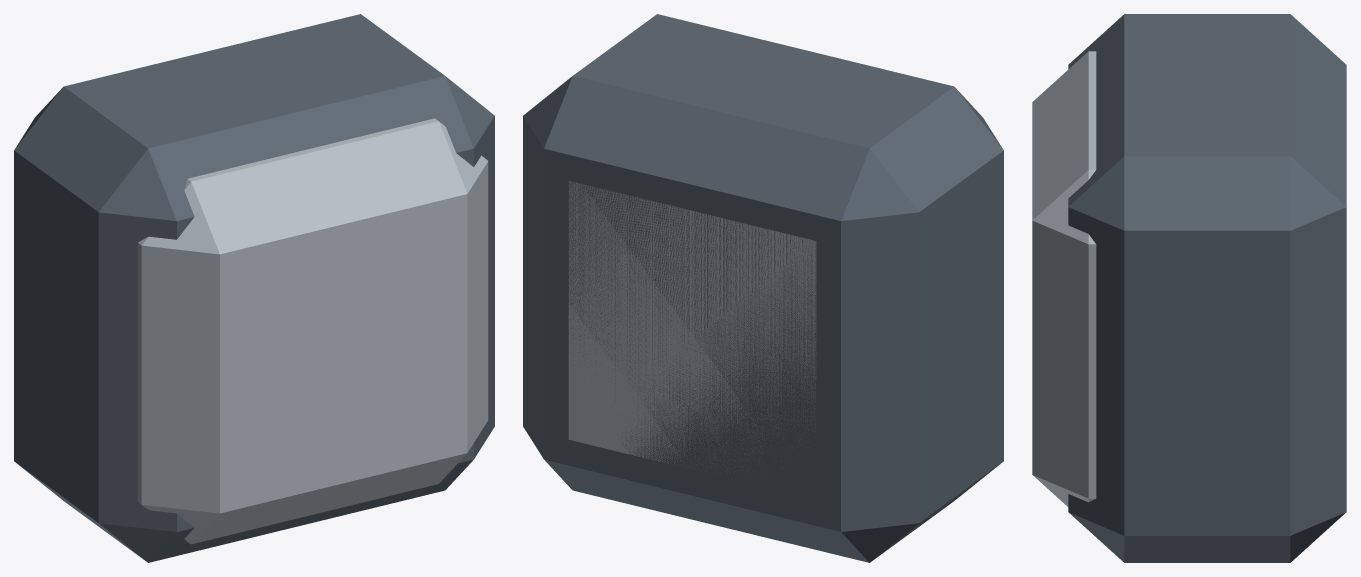
The model's file is Terrain_Block1x1.gltf.
The picture shows the model from 3 angles, left to right: view 1: azimuth 30°, elevation 25°; view 2: azimuth 150°, elevation 25°; view 3: azimuth 270°, elevation 25°; orthographic projection.
Parts seen in each view (by area): view 1: Terrain_Block1x1_baked; view 2: Terrain_Block1x1_baked; view 3: Terrain_Block1x1_baked.
Boxes of the visible parts, bbox=[...] form: Terrain_Block1x1_baked: bbox=[14, 14, 494, 562]; Terrain_Block1x1_baked: bbox=[523, 14, 1003, 562]; Terrain_Block1x1_baked: bbox=[1032, 14, 1346, 562].
Bounding box in the file's own units: 1 × 1 × 0.7.
